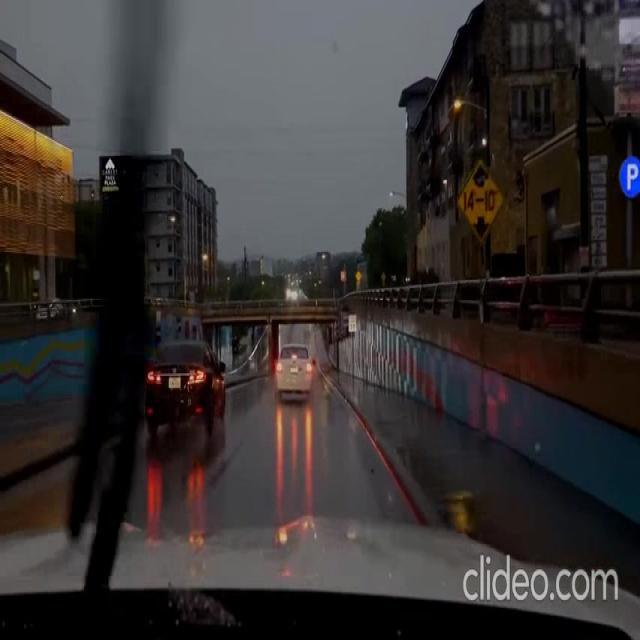Car: (144, 338, 225, 436), (272, 342, 312, 397)
